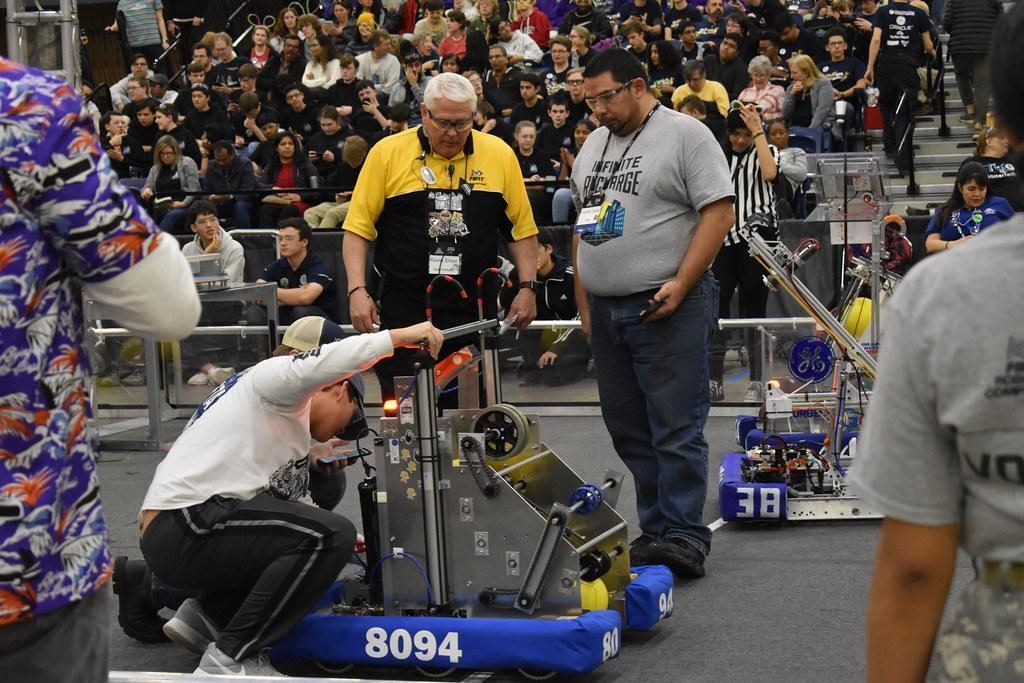robot: (271, 261, 682, 679), (712, 196, 992, 534)
